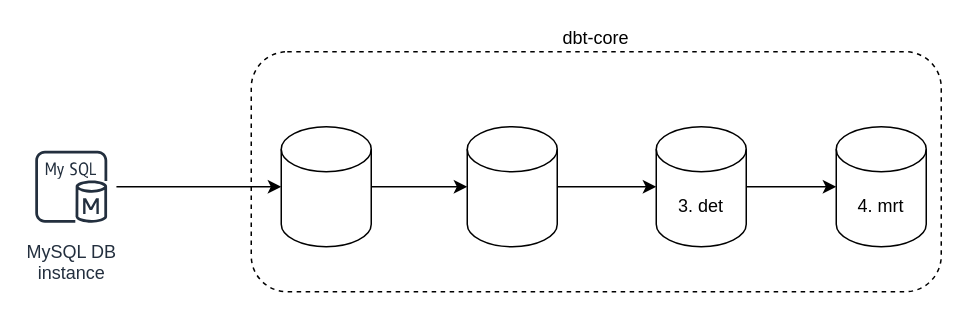
The diagram is 968 pixels wide and 318 high, and some of its shapes have lost their labels. The shapes that lost their labels are listed below. From the top down, each one's centre as x and y in pixels, then its label:
(325,186): 1. raw
(511,186): 2. stg
